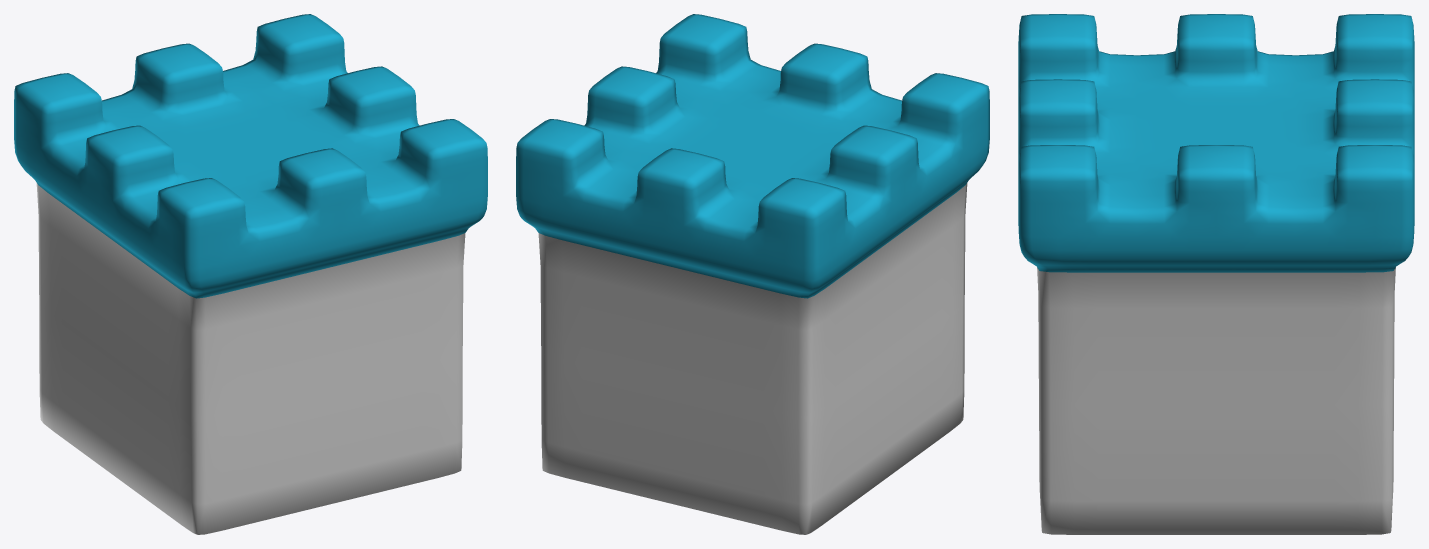
File: casle_wall_conner.fbx
3 renders of one model, left to right at view 1: azimuth 30°, elevation 25°; view 2: azimuth 150°, elevation 25°; view 3: azimuth 270°, elevation 25°, orthographic. The views are drawn at different scales.
Visible parts, largest first — view 1: Box005; view 2: Box005; view 3: Box005.
Boxes of the visible parts, x1,y1,x2,y2 form: Box005: (14, 14, 487, 534); Box005: (516, 14, 989, 534); Box005: (1018, 14, 1414, 534).
Bounding box in the file's own units: 71.97 × 73.72 × 77.48.
